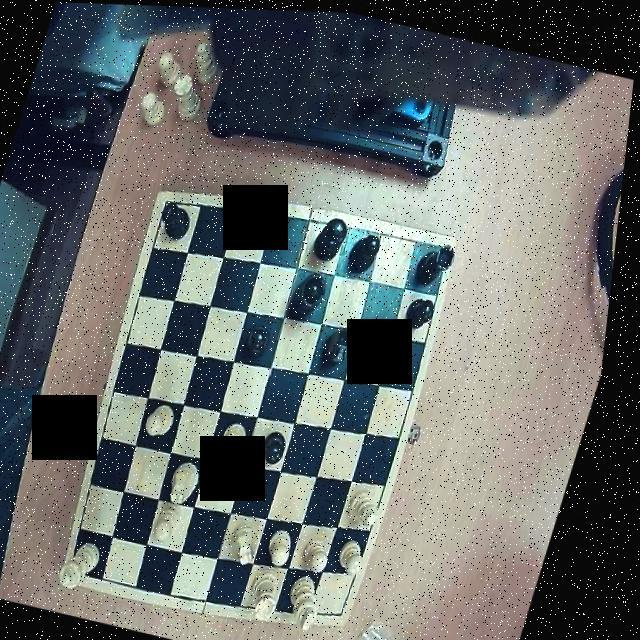chess-table-corners: (157, 190, 196, 224), (72, 549, 108, 582), (426, 233, 462, 266), (336, 593, 367, 624)
